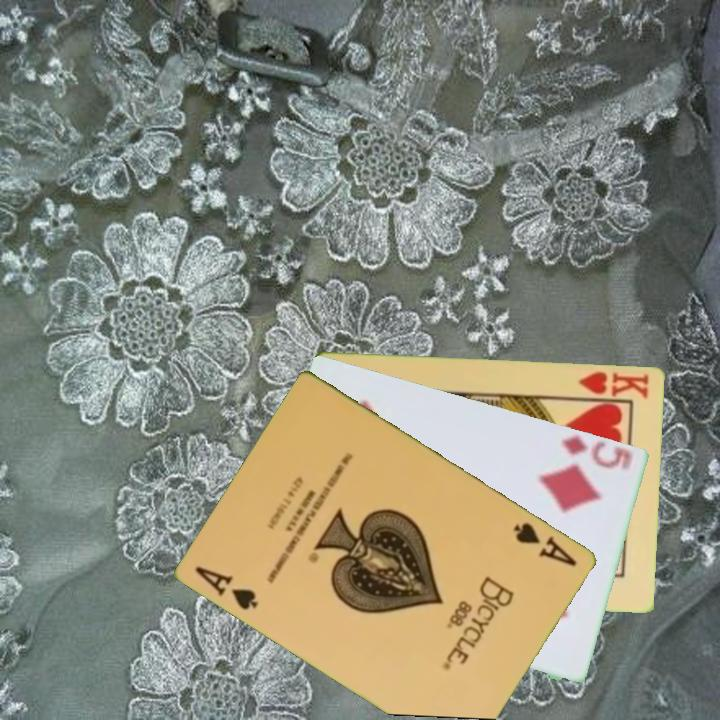5d: (559, 432, 636, 472)
As: (510, 518, 581, 570), (192, 562, 262, 613)
Kh: (570, 367, 652, 403)
